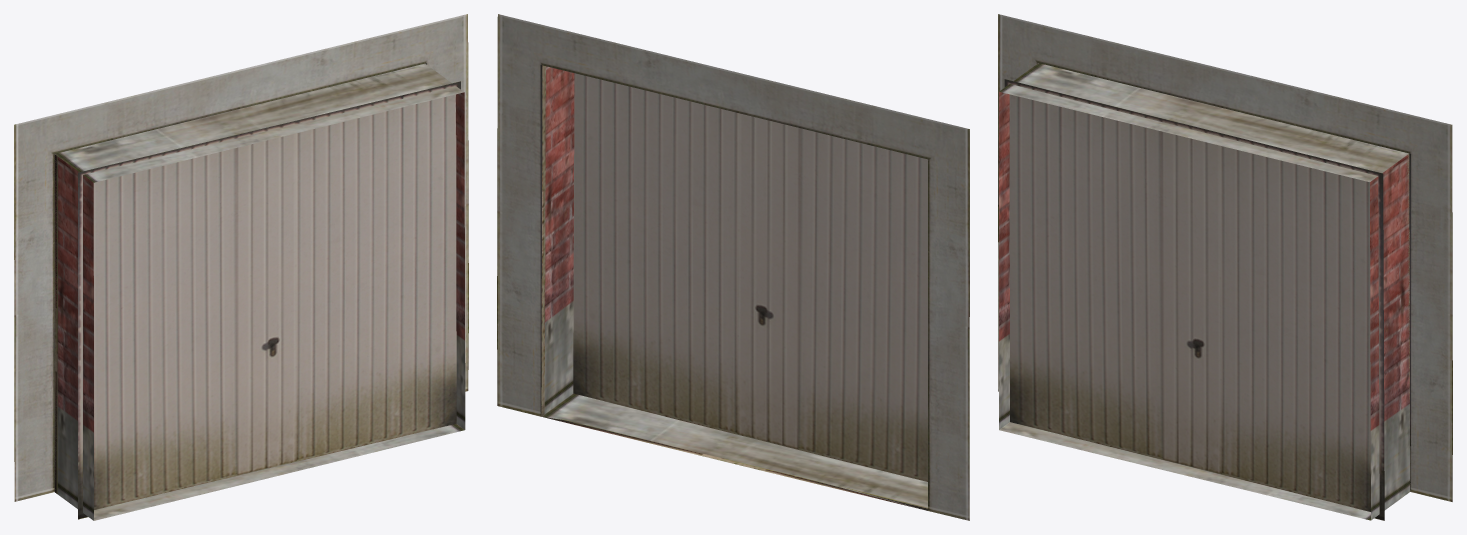
The model's file is garage.fbx.
3 renders of one model, left to right at view 1: azimuth 30°, elevation 25°; view 2: azimuth 150°, elevation 25°; view 3: azimuth 330°, elevation 25°, orthographic. The views are drawn at different scales.
Parts seen in each view (by area): view 1: garage; view 2: garage; view 3: garage.
Part boxes in pixels (bbox=[...]): garage: bbox=[14, 14, 468, 520]; garage: bbox=[497, 14, 969, 520]; garage: bbox=[998, 14, 1452, 520].
Size of the model in its own units: 541 by 435 by 81.84.
